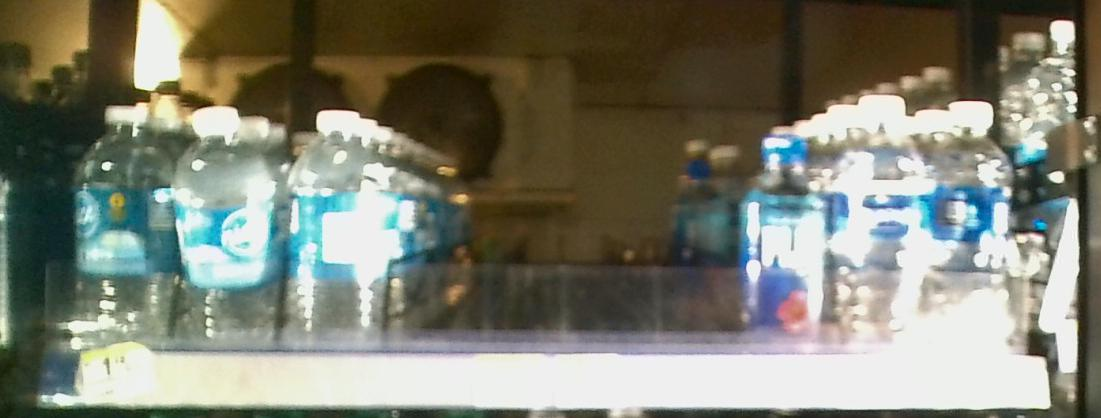bottle: (282, 101, 387, 353), (836, 90, 928, 361), (177, 100, 277, 349), (75, 98, 172, 349), (935, 100, 1018, 360), (737, 135, 828, 355)
